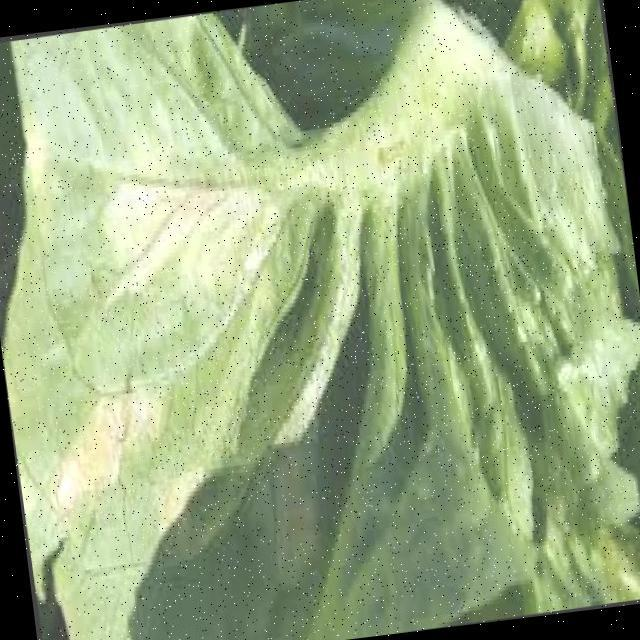Downy_Mildew: (17, 147, 328, 531)
